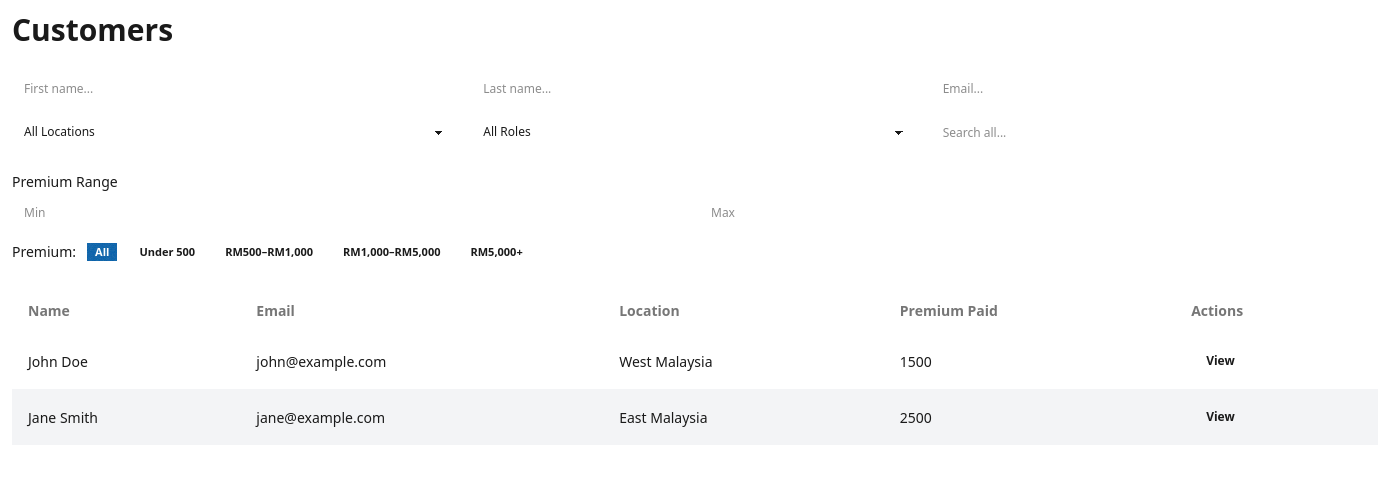
it: Premium Range Search › Active premium badge › shows premium range badge when premiumMax is set
Note: Set a premium max
Type "1000" into the number field named "Maximum premium paid" at coordinates (1038, 212), box x1=699 y1=196 x2=1378 y2=228
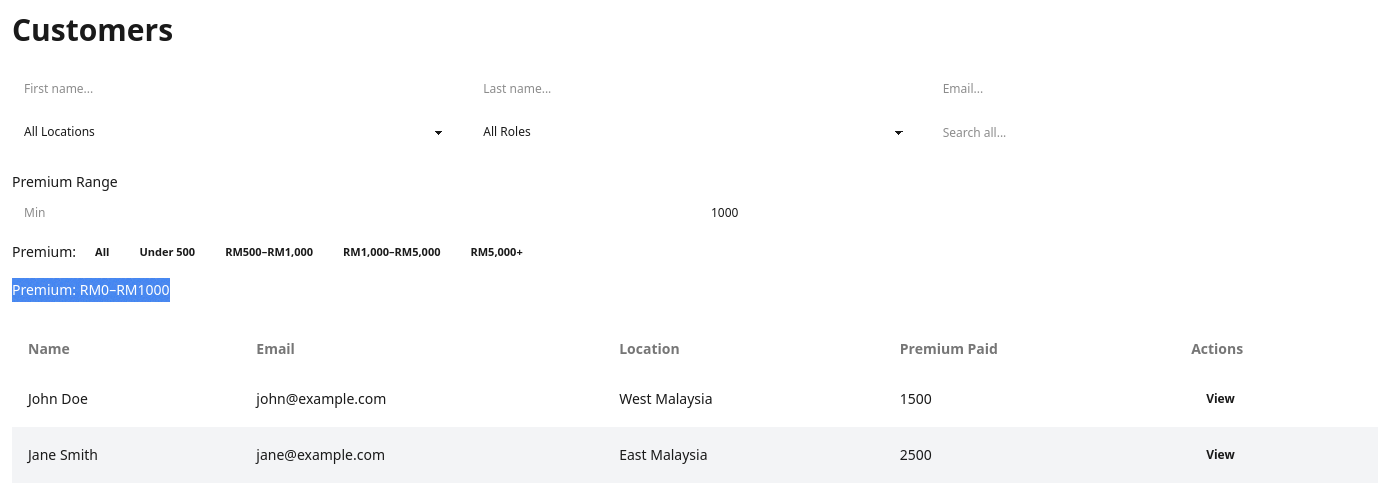
Check: the text "Premium: RM0–RM1000" is shown, box x1=12 y1=278 x2=170 y2=302
